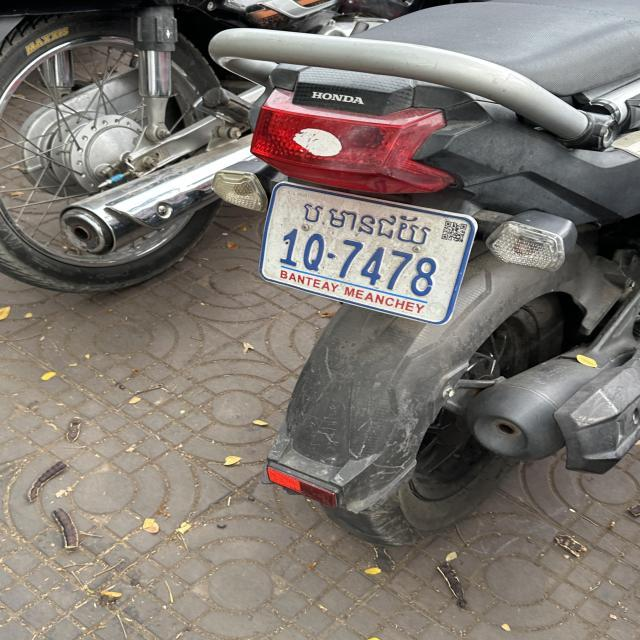Banteay_Meanchey: (302, 202, 433, 245)
